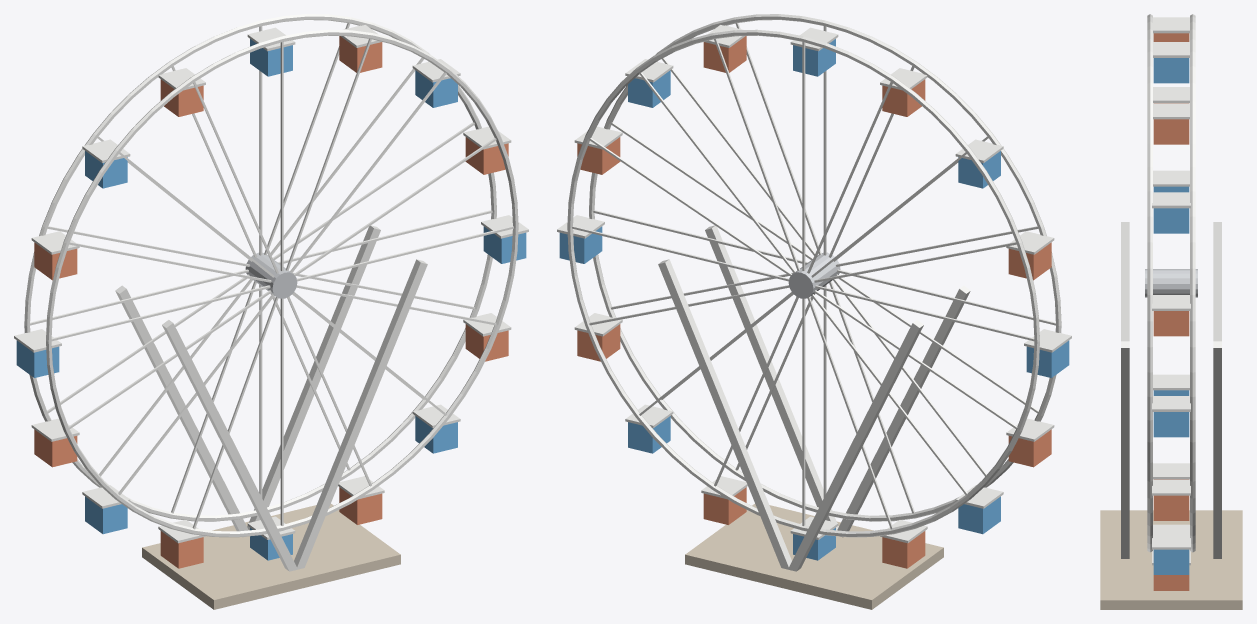
File: ferris_wheel.glb
3 renders of one model, left to right at view 1: azimuth 30°, elevation 25°; view 2: azimuth 150°, elevation 25°; view 3: azimuth 270°, elevation 25°, orthographic.
Parts seen in each view (by area): view 1: white, stone_dark, cabin, cabin2, steel; view 2: white, stone_dark, cabin, cabin2, steel; view 3: white, stone_dark, cabin2, cabin, steel.
Part boxes in pixels (left/top/right/bottom): white: left=14, top=14, right=528, bottom=571; stone_dark: left=142, top=504, right=400, bottom=609; cabin: left=34, top=36, right=508, bottom=568; cabin2: left=16, top=39, right=526, bottom=560; steel: left=245, top=252, right=297, bottom=298; white: left=557, top=14, right=1071, bottom=571; stone_dark: left=685, top=504, right=943, bottom=609; cabin: left=577, top=36, right=1051, bottom=568; cabin2: left=559, top=39, right=1069, bottom=560; steel: left=788, top=252, right=840, bottom=298; white: left=1121, top=14, right=1221, bottom=565; stone_dark: left=1100, top=510, right=1242, bottom=609; cabin2: left=1153, top=58, right=1189, bottom=574; cabin: left=1153, top=33, right=1189, bottom=590; steel: left=1145, top=269, right=1197, bottom=297.
Size of the model in its own units: 31.8 by 32.79 by 8.
